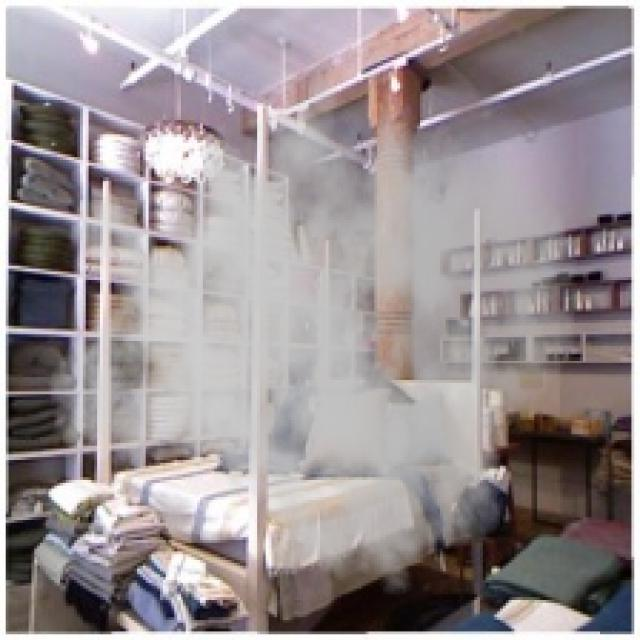smoke: (46, 40, 577, 609)
